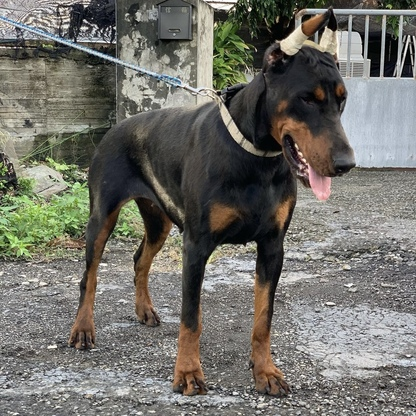doberman: (67, 14, 361, 413)
